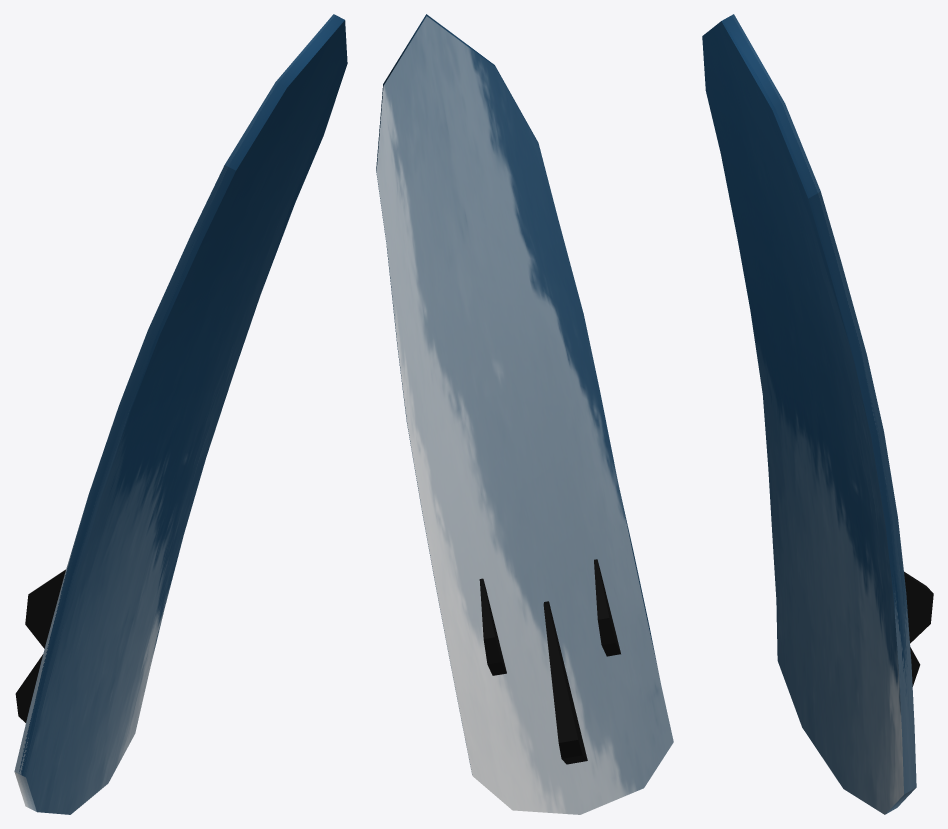
The model's file is ColladaSurfboard.dae.
The picture shows the model from 3 angles, left to right: view 1: azimuth 30°, elevation 25°; view 2: azimuth 150°, elevation 25°; view 3: azimuth 270°, elevation 25°; orthographic projection. The views are drawn at different scales.
Parts seen in each view (by area): view 1: Board, pCube217; view 2: Board, pCube217; view 3: Board, pCube217.
Part boxes in pixels (<box>): Board: <box>14,14,347,814</box>; pCube217: <box>15,569,65,722</box>; Board: <box>376,14,673,814</box>; pCube217: <box>479,559,620,764</box>; Board: <box>702,14,916,814</box>; pCube217: <box>904,571,933,686</box>.
Bounding box in the file's own units: 107 × 246 × 57.58.
